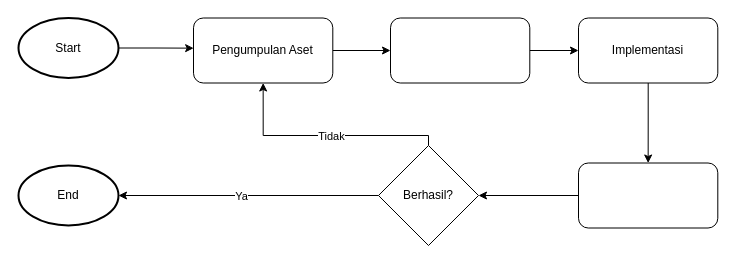
This 735x263 diagram has some shape labels left out. Here are the shapes that lost their labels. From the top down, the centre of each, then its label:
At (x=460, y=50): "Pre-Processing".
At (x=648, y=195): "Uji Coba".
